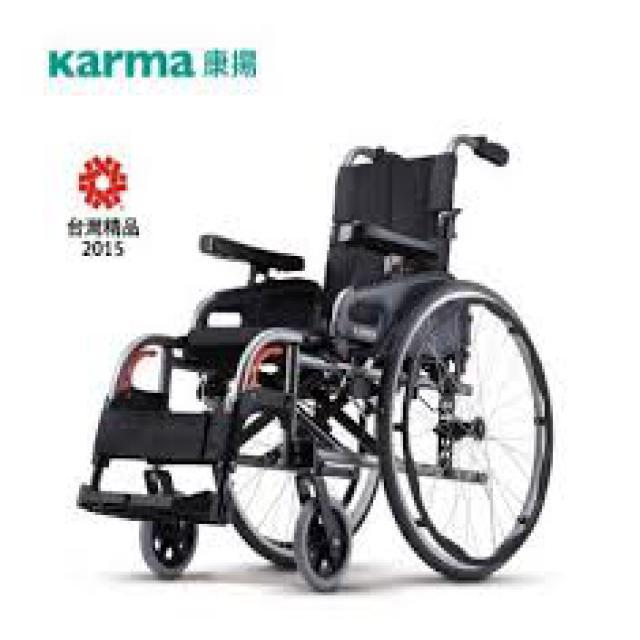wheelchair: (70, 118, 570, 592)
